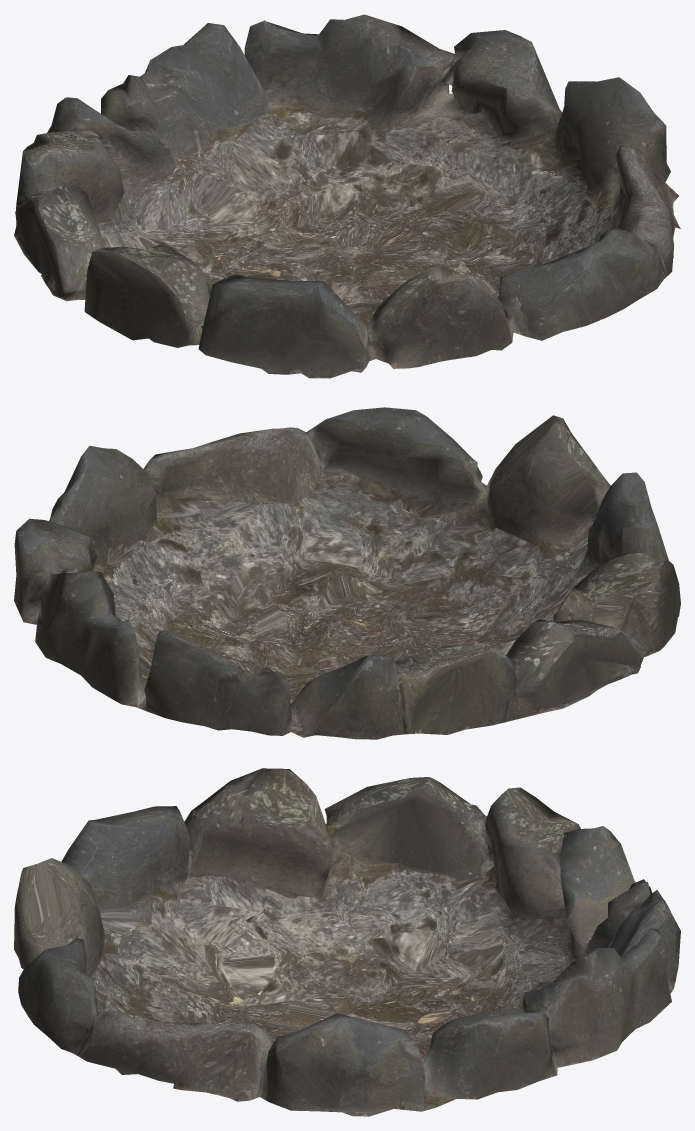
The model's file is stone-fire-pit.glb.
The picture shows the model from 3 angles, top to bottom: view 1: azimuth 30°, elevation 25°; view 2: azimuth 150°, elevation 25°; view 3: azimuth 270°, elevation 25°; orthographic projection.
Visible parts, largest first — view 1: stone_fire_pit; view 2: stone_fire_pit; view 3: stone_fire_pit.
Boxes of the visible parts, x1,y1,x2,y2 form: stone_fire_pit: (14, 14, 680, 378); stone_fire_pit: (14, 407, 680, 739); stone_fire_pit: (14, 768, 680, 1116).
Size of the model in its own units: 1.45 by 0.3845 by 1.43.
1 material, 1 textured.
